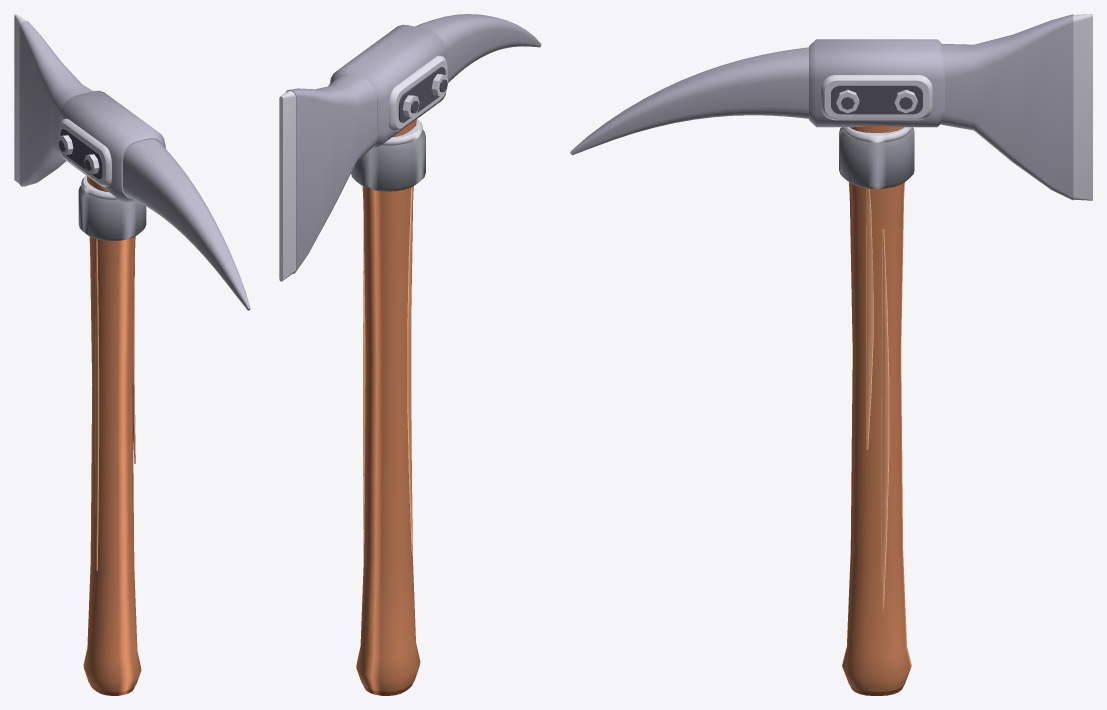
The model's file is pioche_hache.glb.
3 renders of one model, left to right at view 1: azimuth 30°, elevation 25°; view 2: azimuth 150°, elevation 25°; view 3: azimuth 270°, elevation 25°, orthographic. The views are drawn at different scales.
Parts seen in each view (by area): view 1: manche, lame, pic, oeil, bague; view 2: manche, lame, oeil, pic, bague; view 3: manche, lame, oeil, pic, bague.
Part boxes in pixels (bbox=[...]): manche: bbox=[83, 176, 141, 695]; lame: bbox=[14, 14, 92, 186]; pic: bbox=[123, 139, 250, 310]; oeil: bbox=[58, 90, 166, 202]; bague: bbox=[78, 176, 146, 241]; manche: bbox=[356, 119, 420, 695]; lame: bbox=[279, 73, 377, 281]; oeil: bbox=[329, 24, 448, 148]; pic: bbox=[415, 14, 541, 82]; bague: bbox=[351, 119, 425, 191]; manche: bbox=[842, 126, 911, 695]; lame: bbox=[940, 14, 1092, 200]; oeil: bbox=[809, 39, 944, 127]; pic: bbox=[570, 47, 808, 155]; bague: bbox=[839, 127, 914, 188].
Bounding box in the file's own units: 0.1 × 0.7645 × 0.5386.
